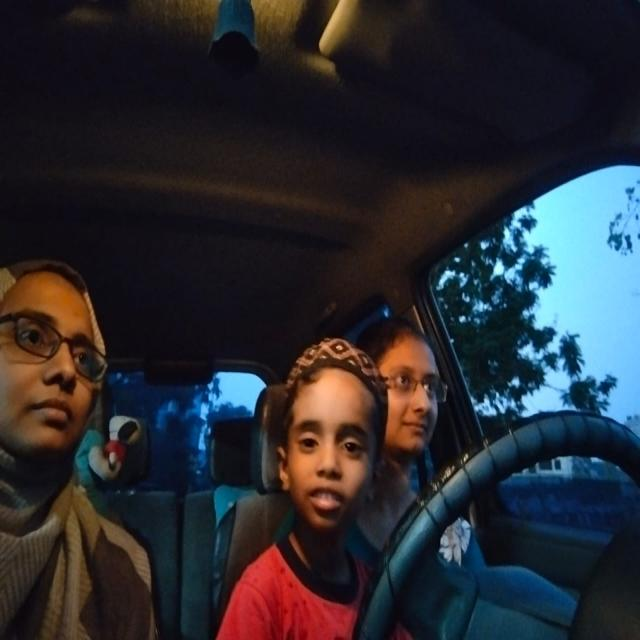child: (274, 334, 388, 534), (372, 312, 448, 472)
person: (3, 258, 115, 480)
